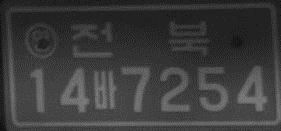1: (24, 67, 54, 113)
2: (158, 65, 190, 113)
4: (236, 65, 268, 112), (58, 67, 89, 114)
5: (197, 65, 228, 112)
7: (121, 65, 149, 112)
바: (92, 70, 118, 110)
영: (24, 21, 59, 60)
전북_D: (69, 19, 211, 59)
